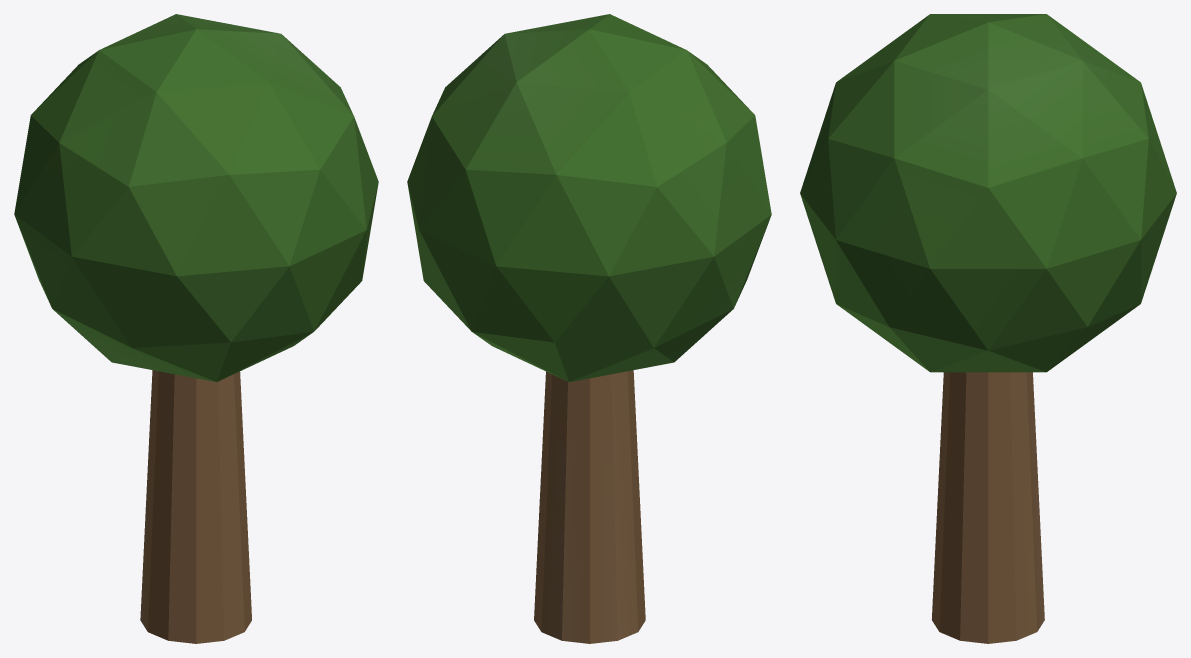
File: TestTree.fbx
3 views of the same model, side by side, from view 1: azimuth 30°, elevation 25°; view 2: azimuth 150°, elevation 25°; view 3: azimuth 270°, elevation 25° (orthographic).
Visible parts, largest first — view 1: Tree; view 2: Tree; view 3: Tree.
Part boxes in pixels (x1,y1,x2,y2): Tree: (14,14,378,643); Tree: (407,14,771,643); Tree: (800,14,1176,643).
Size of the model in its own units: 1.9 by 3.5 by 2.
